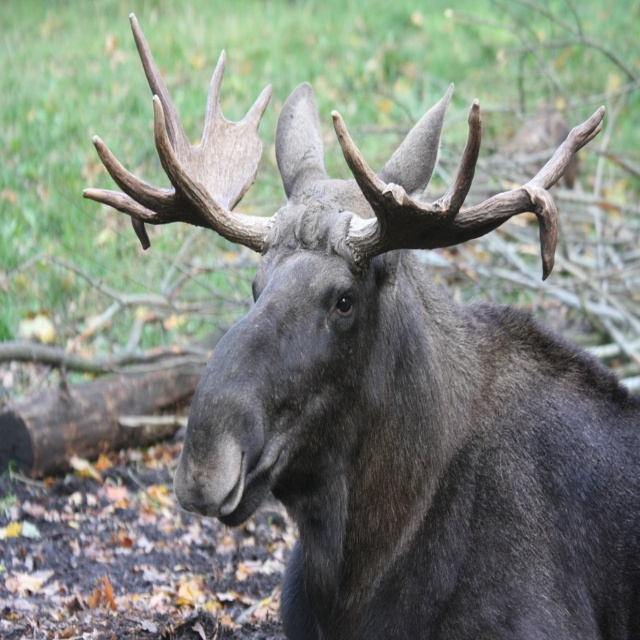Deer: (82, 13, 640, 640)
